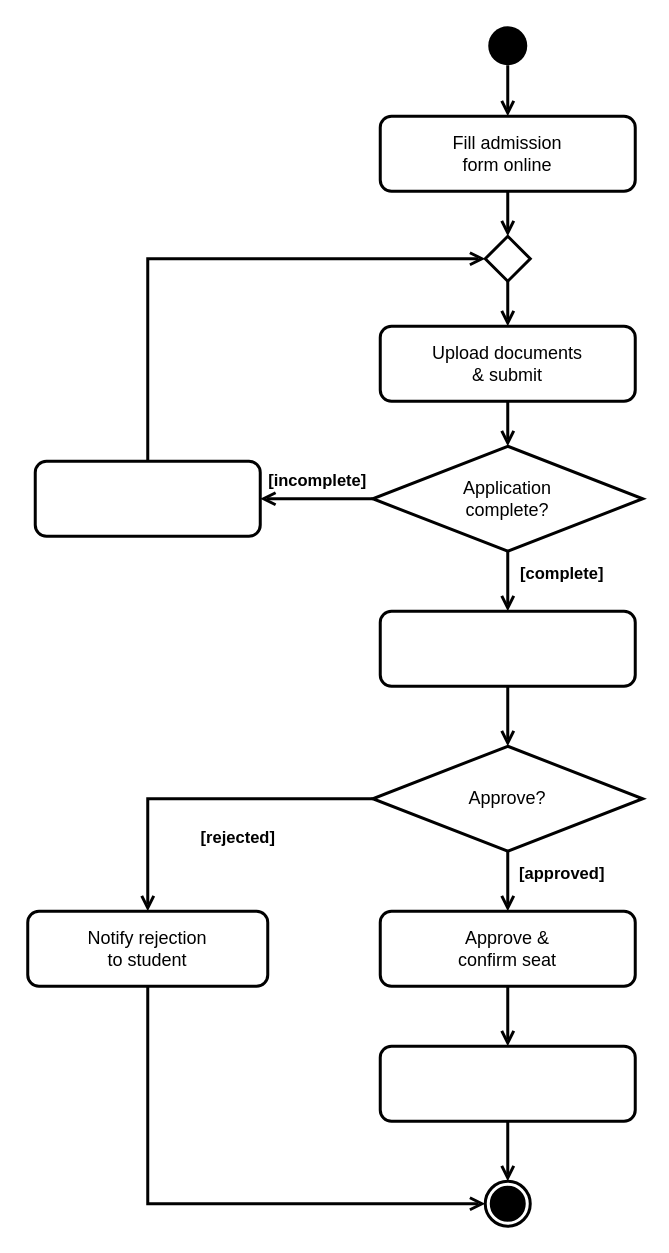
The diagram is 669 pixels wide and 1253 high, and some of its shapes have lost their labels. Here are the shapes that lost their labels. From the top down, the box of each, then its label:
(33, 459, 261, 537): Show missing fields
(378, 609, 636, 687): Admin reviews application
(378, 1044, 636, 1122): Create student account
